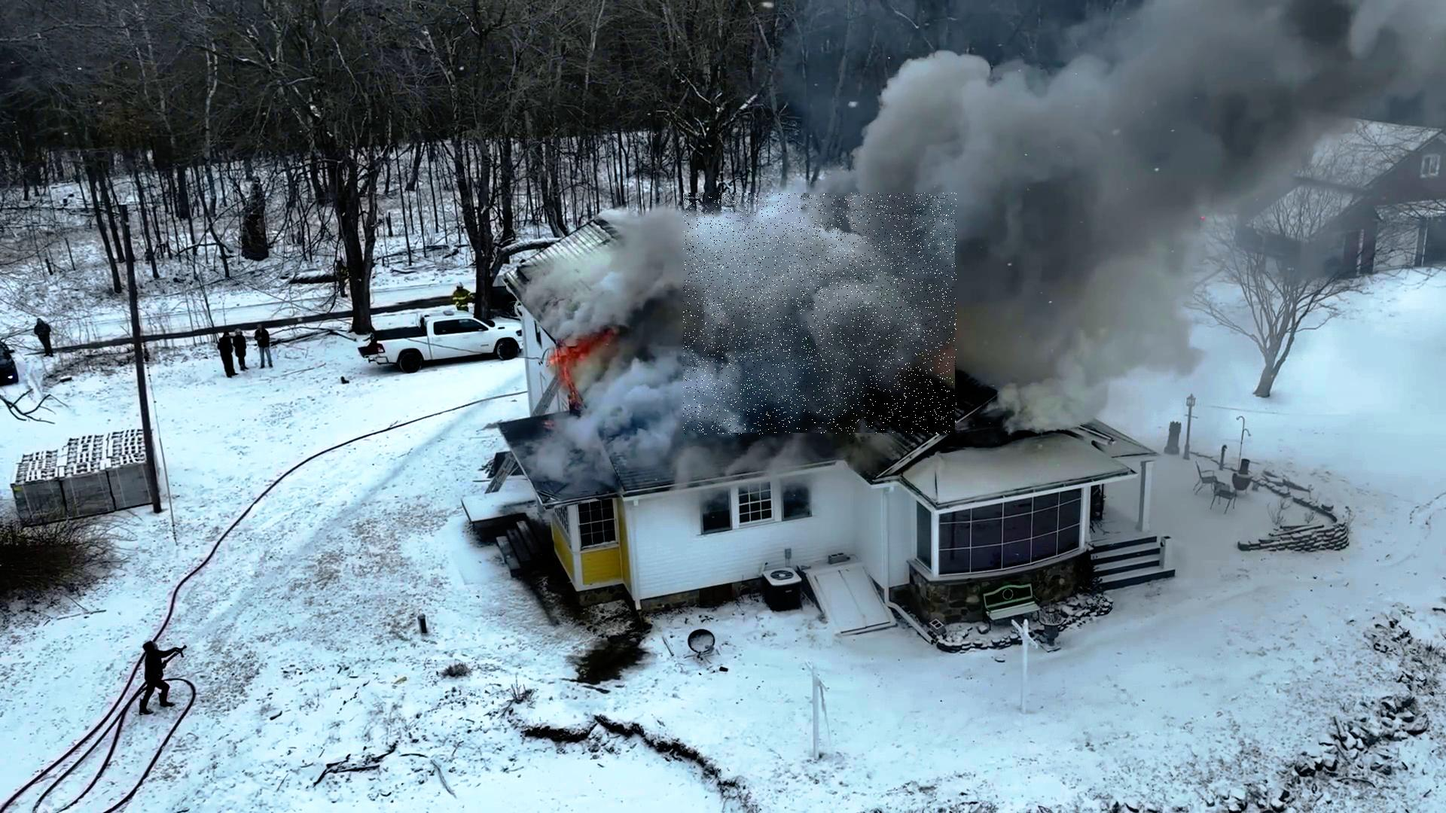smoke: (684, 193, 957, 435)
